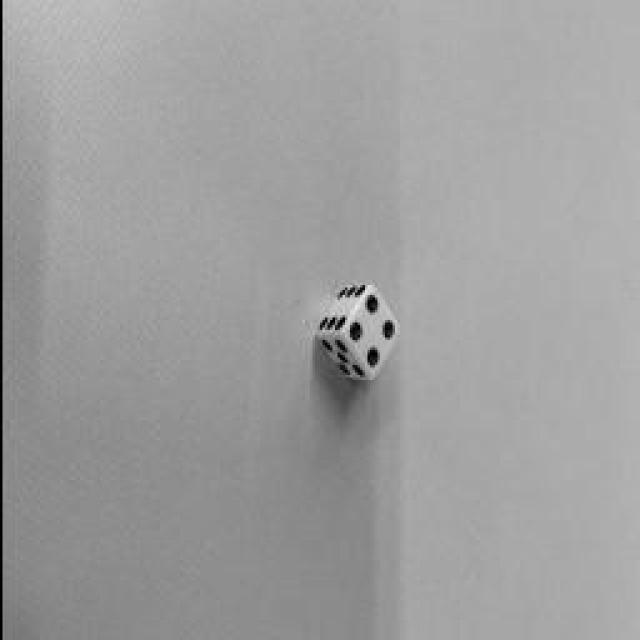dice_4: (339, 285, 396, 380)
